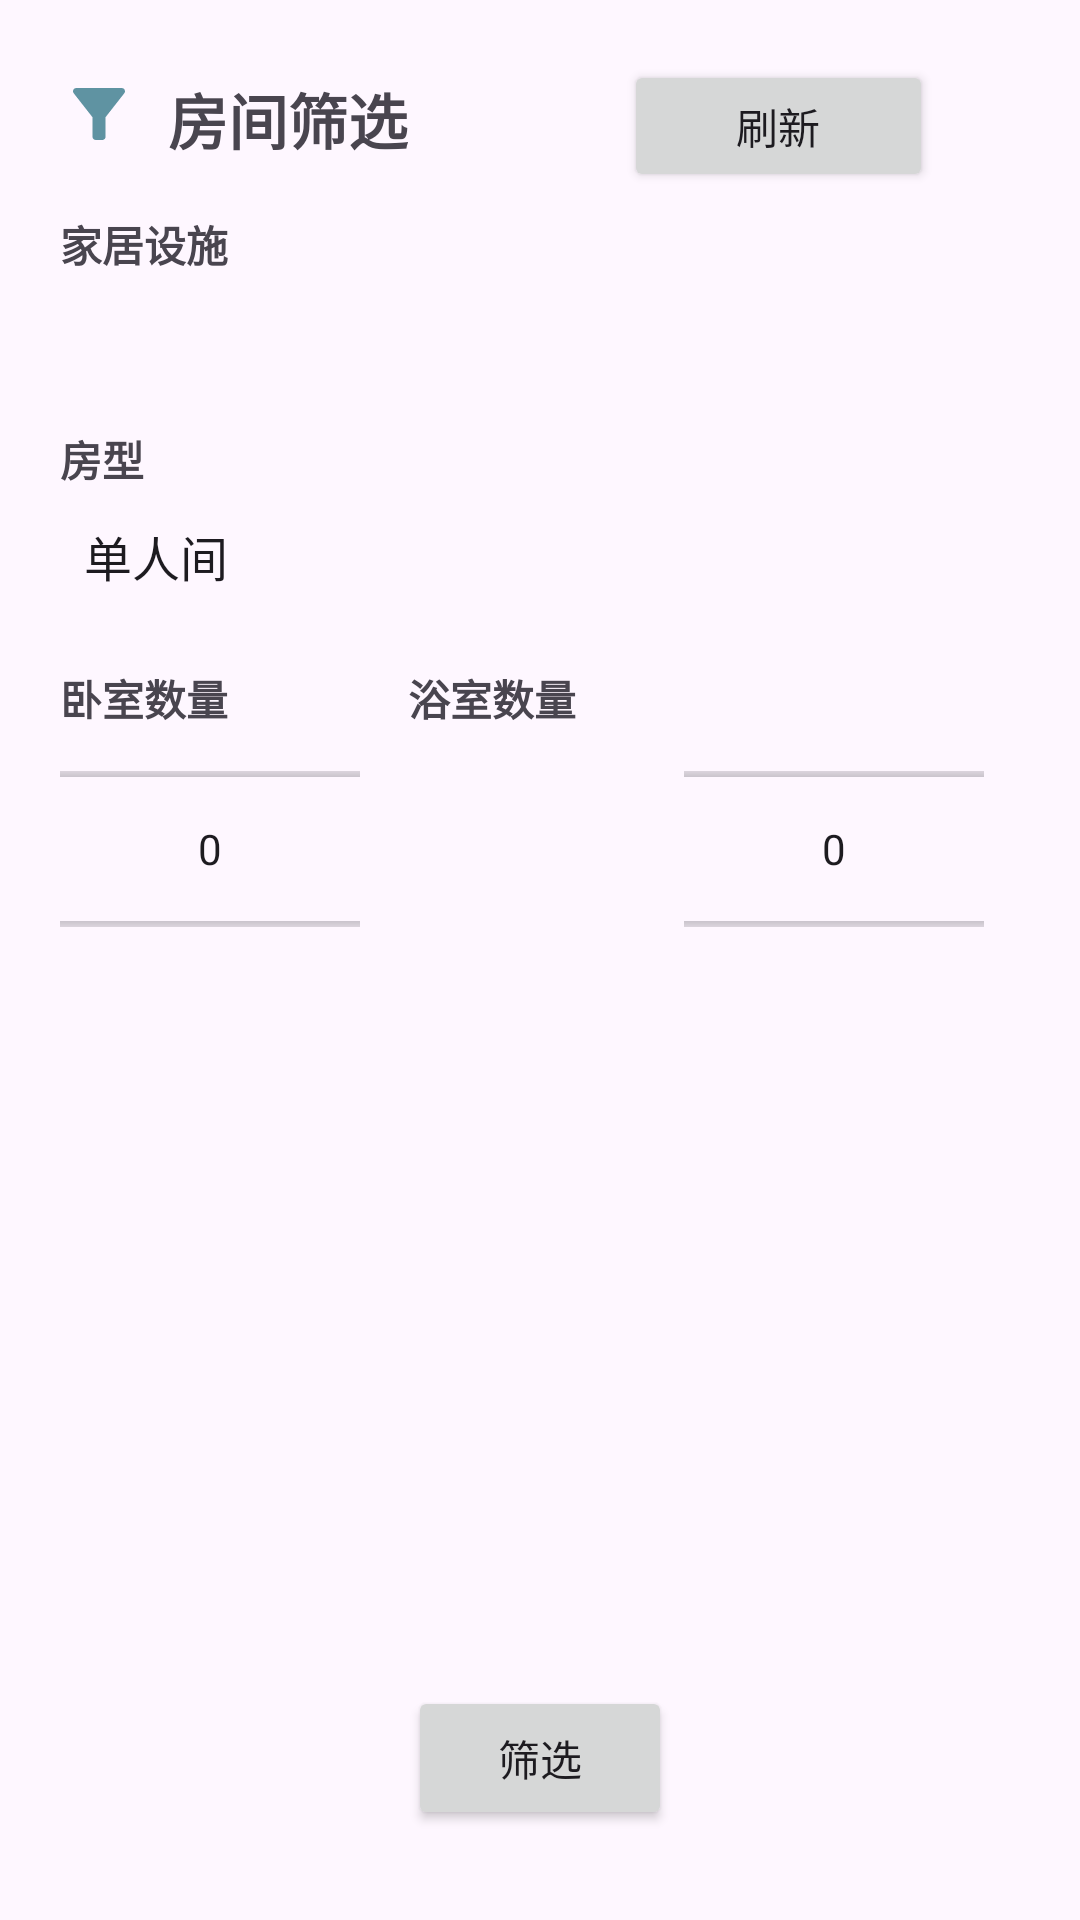

Point at icon controls on the screen. Image size 1080px×1920px, points as [x,y].
filter list: [99,114]
